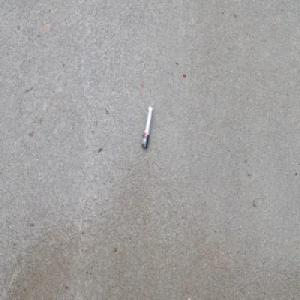Battery: (141, 104, 154, 150)
